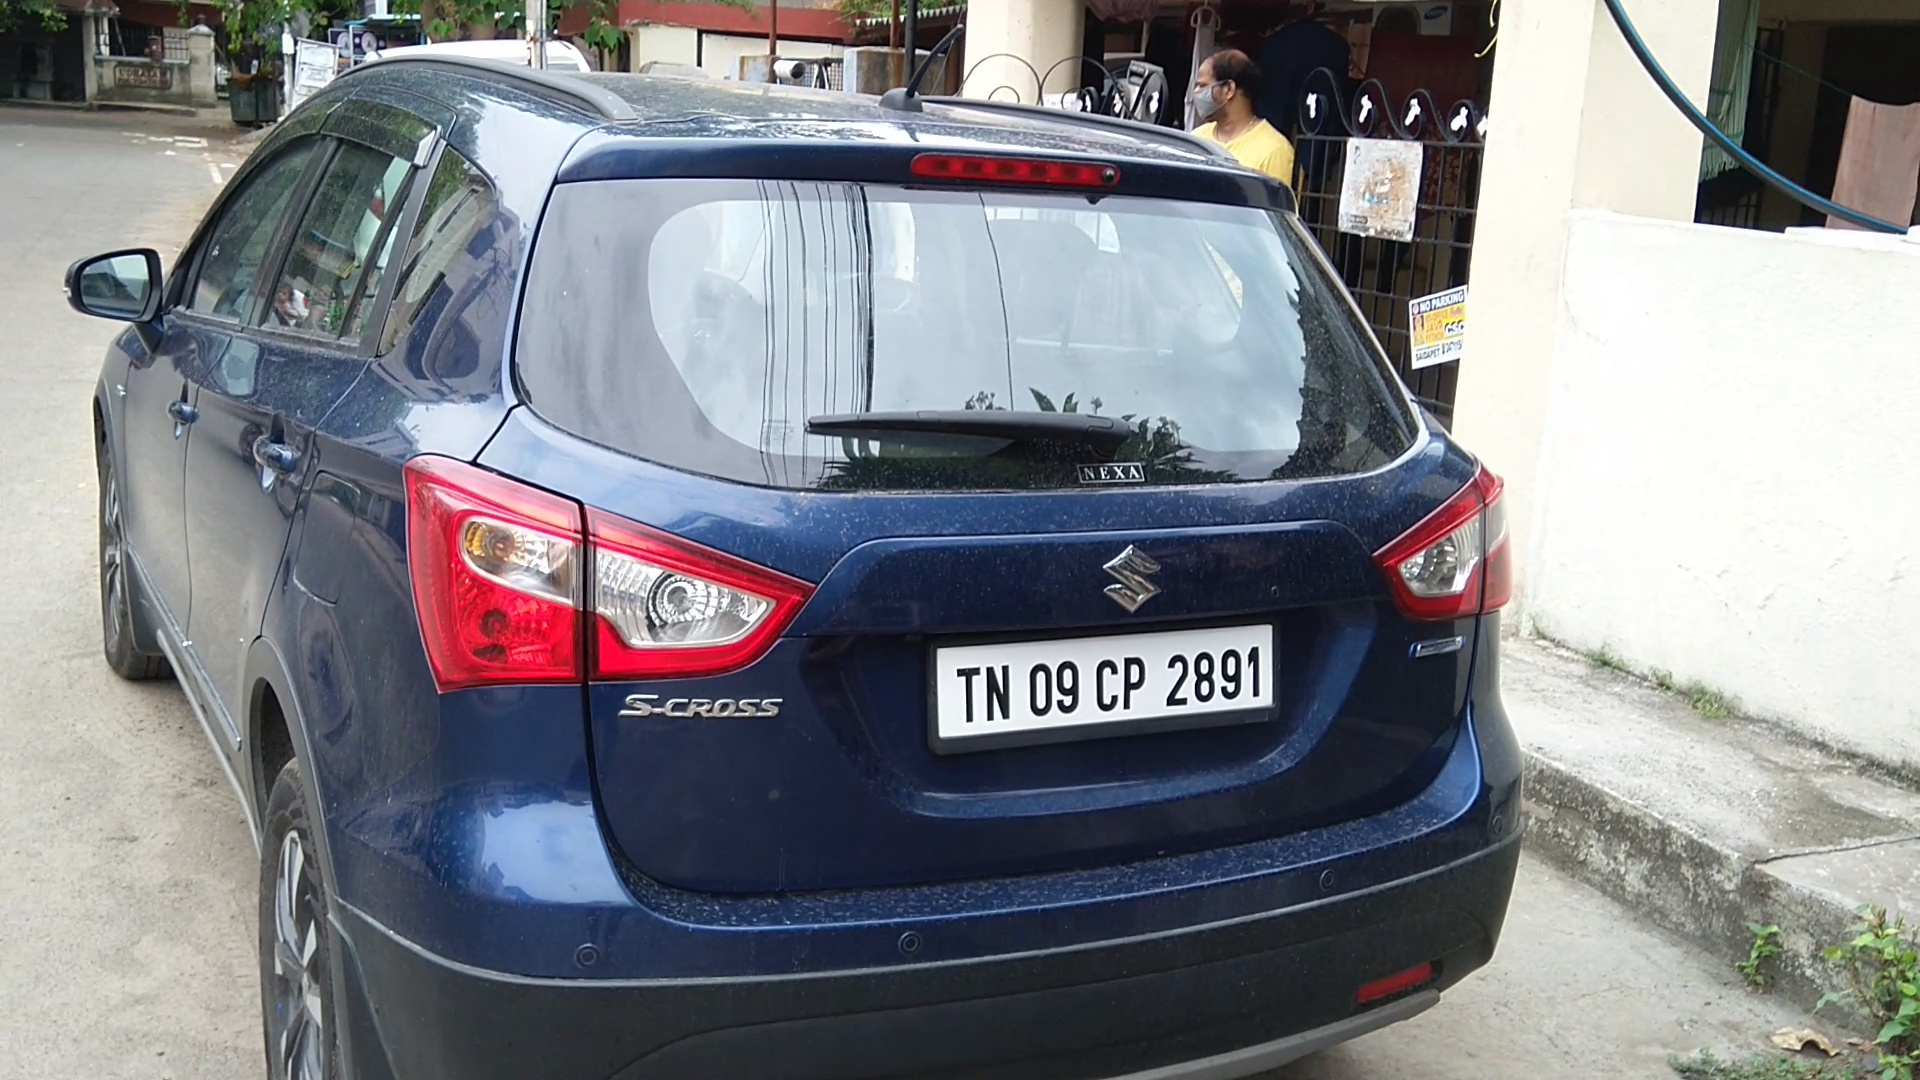alloy_wheel: (255, 756, 349, 1080), (100, 463, 146, 661)
rear_camera: (1091, 164, 1129, 196)
shvs: (1391, 618, 1466, 663)
